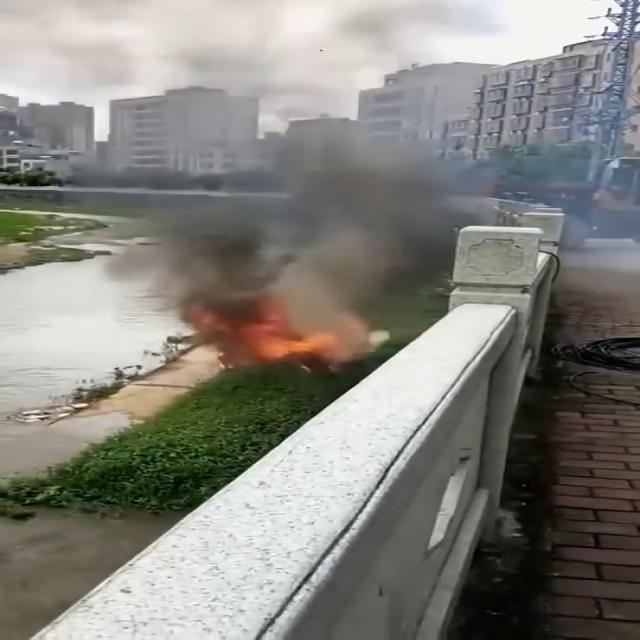Fire: (220, 318, 361, 374)
Smoke: (19, 0, 513, 315)
